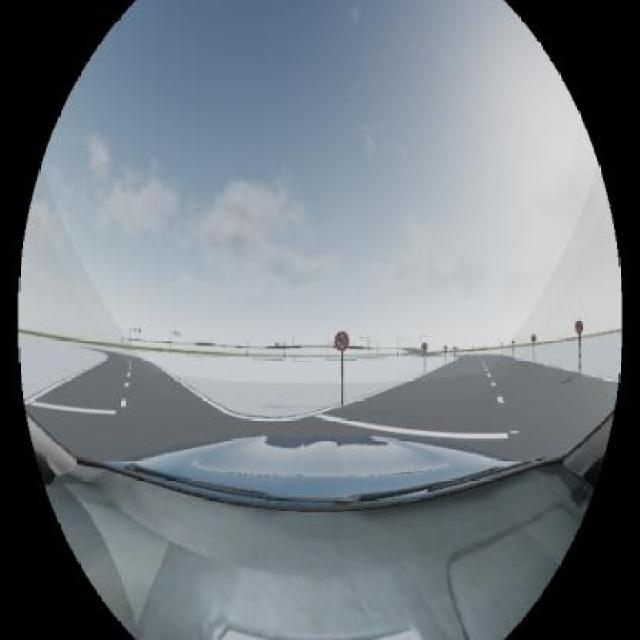forb_speed_over_50: (334, 332, 349, 350)
